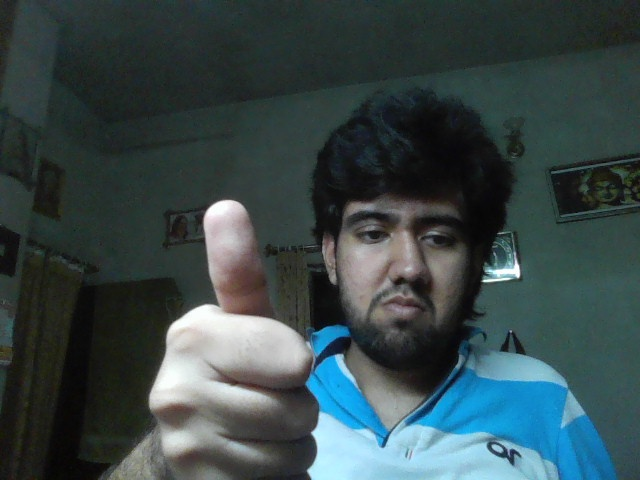Ok: (153, 199, 320, 480)
